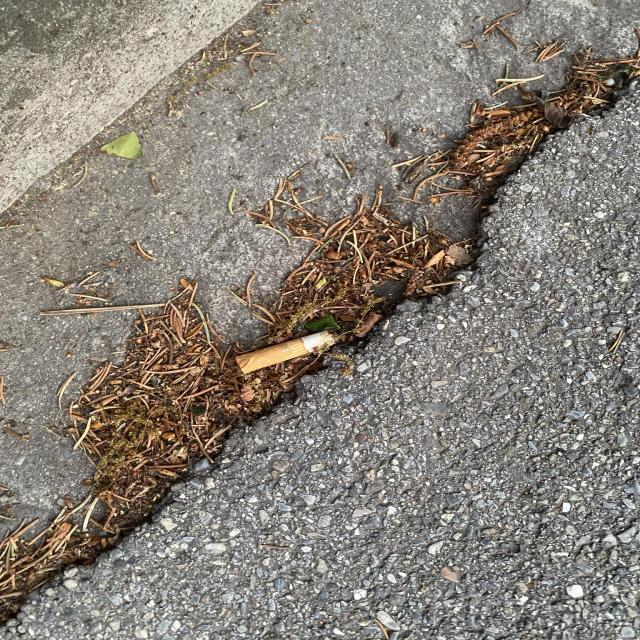other waste: (235, 331, 336, 374)
